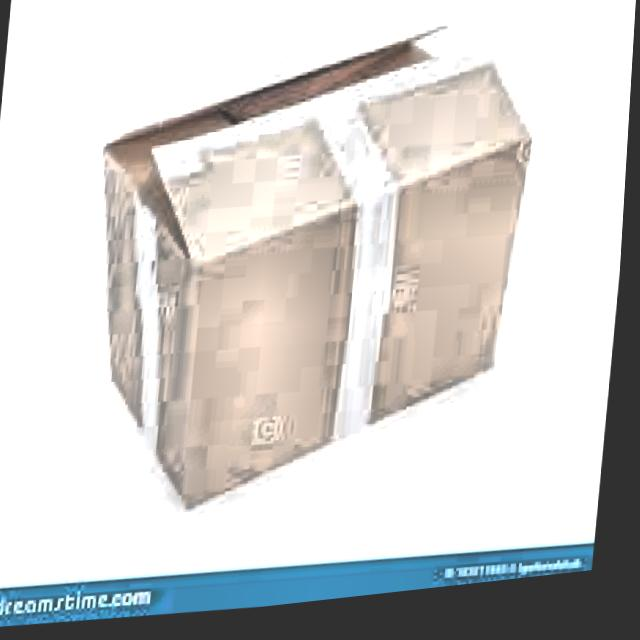Cardbox: (63, 0, 553, 556)
